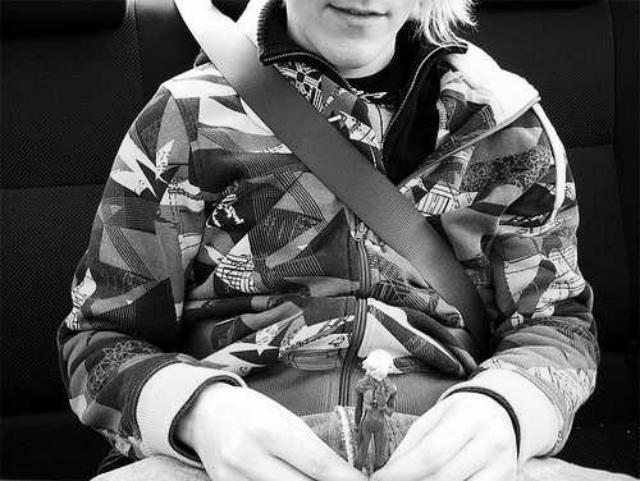Seatbelt: (174, 1, 488, 340)
